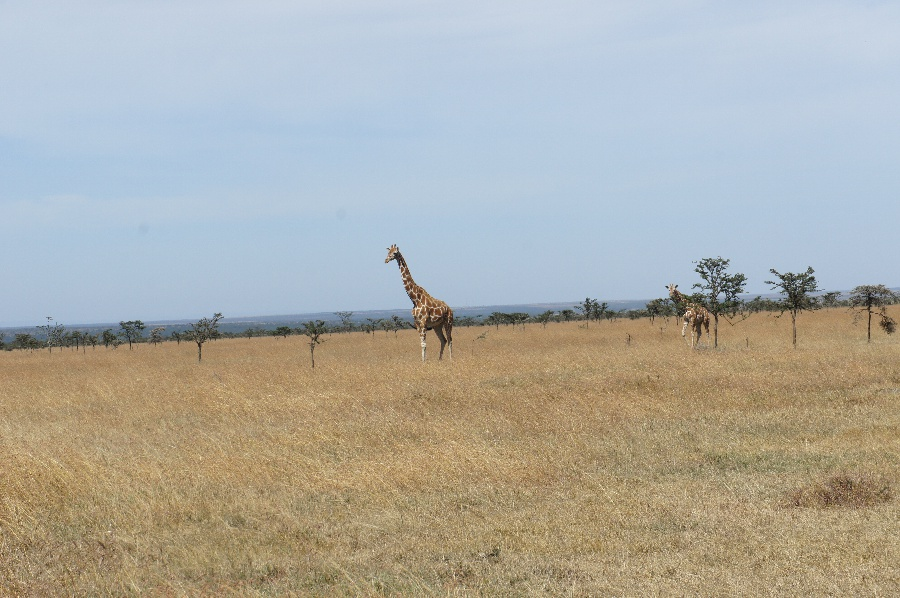giraffe: (378, 238, 461, 365), (661, 278, 714, 352)
